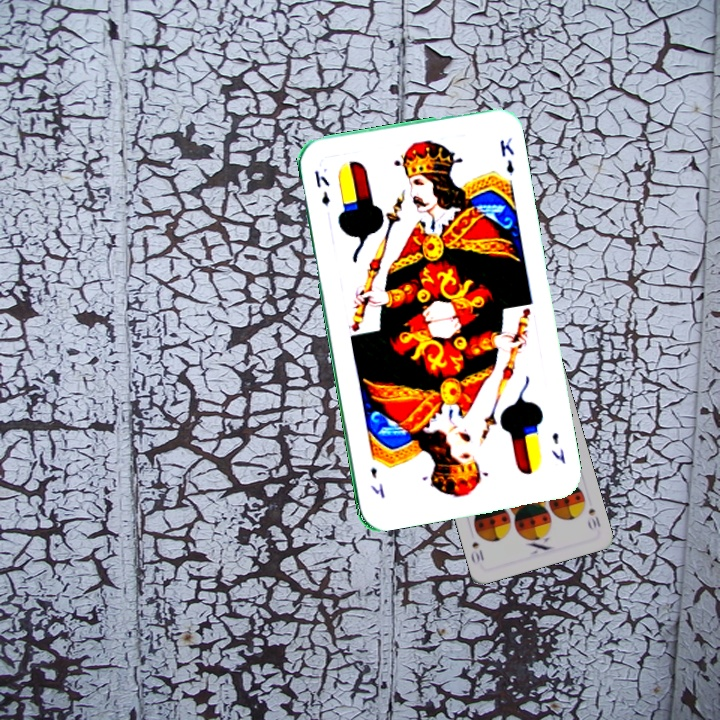EK: (310, 166, 332, 208), (547, 428, 568, 467)
S10: (584, 504, 603, 533)
